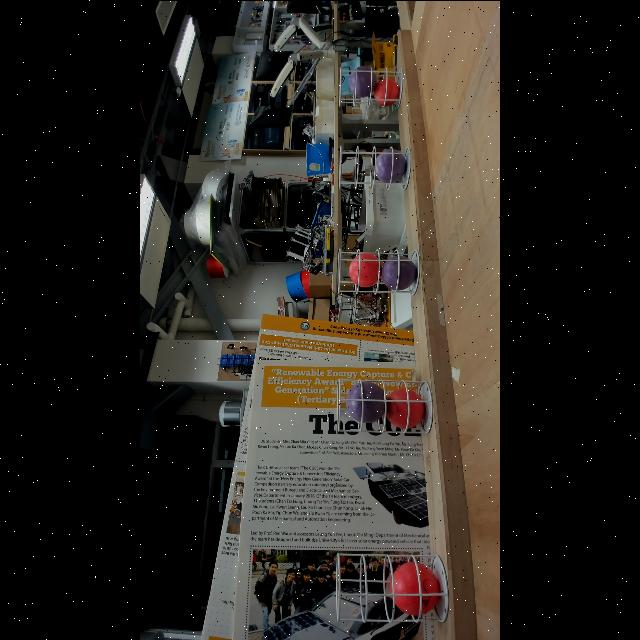P: (346, 380, 388, 422), (381, 254, 417, 290), (374, 147, 408, 183), (348, 64, 378, 98)
R: (390, 560, 440, 614), (386, 387, 426, 429), (349, 252, 383, 286), (374, 76, 400, 105)
S: (334, 551, 452, 623), (336, 378, 434, 434), (336, 247, 420, 295), (338, 144, 412, 190), (338, 64, 404, 108)
